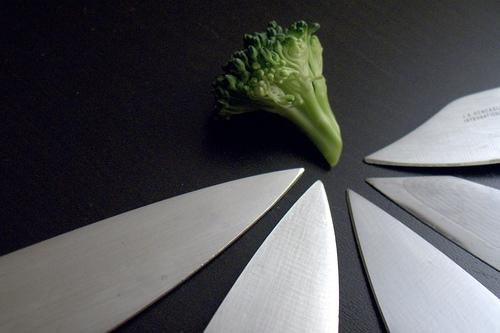broccoli: (213, 20, 342, 167)
